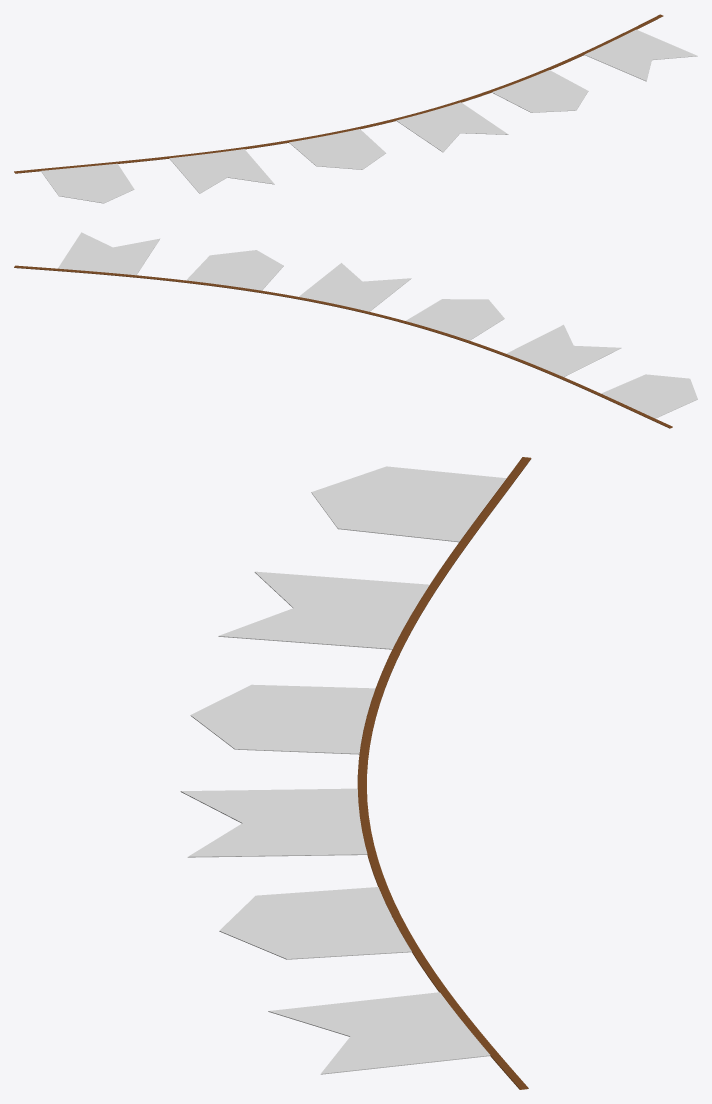
The model's file is Pennant.fbx.
The picture shows the model from 3 angles, top to bottom: view 1: azimuth 30°, elevation 25°; view 2: azimuth 150°, elevation 25°; view 3: azimuth 270°, elevation 25°; orthographic projection. The views are drawn at different scales.
Parts seen in each view (by area): view 1: Pennant; view 2: Pennant; view 3: Pennant.
Part boxes in pixels (x1=…): Pennant: x1=14, y1=14, x2=697, y2=203; Pennant: x1=14, y1=232, x2=697, y2=428; Pennant: x1=180, y1=457, x2=531, y2=1089.
Size of the model in its own units: 626 by 0.5418 by 147.
